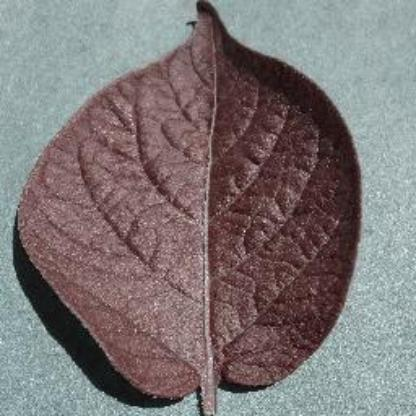Healthy-plant: (17, 2, 359, 416)
